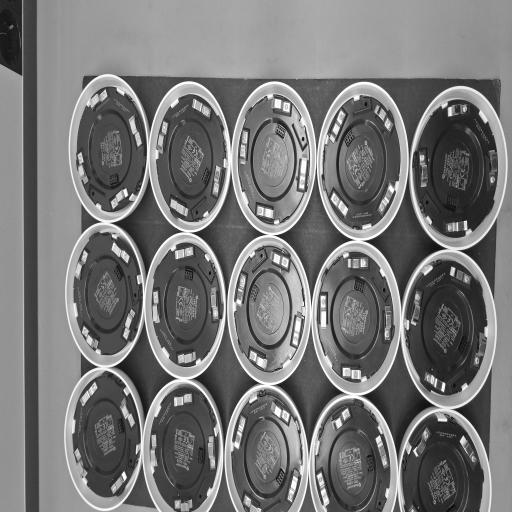konnektor: (364, 453, 374, 479), (113, 262, 126, 282), (351, 278, 365, 296), (344, 128, 355, 150), (274, 466, 285, 487), (274, 125, 287, 142), (459, 335, 469, 356), (201, 166, 210, 188), (446, 194, 458, 210), (108, 171, 120, 187), (250, 285, 260, 304), (196, 448, 204, 470), (181, 270, 195, 281), (116, 418, 124, 435)
yayli: (410, 426, 434, 466), (329, 186, 353, 224), (418, 137, 434, 193), (457, 433, 480, 471), (373, 101, 396, 137), (316, 468, 334, 512), (377, 178, 396, 218), (328, 404, 354, 433), (124, 111, 143, 150), (422, 367, 448, 395), (374, 428, 390, 473), (110, 237, 134, 266), (76, 379, 98, 410), (486, 148, 500, 196), (440, 215, 472, 236), (270, 398, 292, 428), (329, 109, 345, 149), (73, 246, 90, 282), (88, 86, 109, 115), (155, 118, 171, 156), (188, 97, 213, 121), (448, 263, 472, 288), (441, 103, 471, 123), (72, 446, 89, 481), (339, 359, 366, 381), (80, 324, 101, 352), (473, 330, 487, 372), (408, 288, 422, 330), (316, 292, 330, 334), (120, 395, 136, 431), (76, 150, 91, 188), (233, 411, 247, 451), (382, 303, 395, 346), (234, 273, 248, 312), (208, 282, 221, 324), (110, 185, 130, 212), (285, 467, 300, 503), (207, 428, 218, 477), (248, 347, 269, 372), (290, 309, 303, 349), (167, 197, 190, 219), (171, 244, 195, 265), (122, 306, 136, 342), (268, 250, 290, 272), (242, 489, 263, 512), (211, 160, 224, 197), (268, 96, 292, 116), (110, 470, 128, 496), (149, 430, 160, 472), (238, 129, 249, 170), (177, 349, 199, 368), (171, 493, 193, 512), (344, 254, 371, 269), (256, 203, 276, 223), (173, 390, 192, 410), (152, 289, 161, 331), (298, 152, 306, 194)
